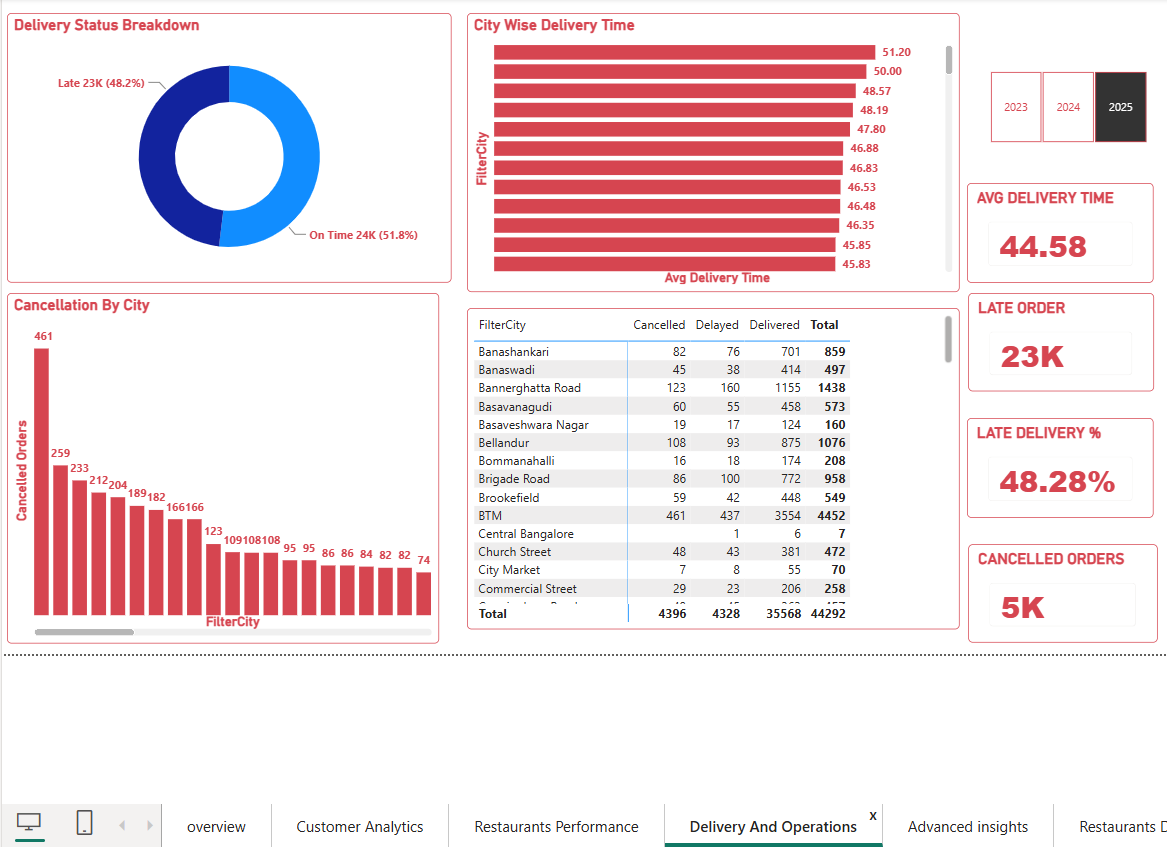

The dashboard page shown, as its layout file describes it:
{"tool":"powerbi","page":{"name":"Delivery And Operations ","canvas":[1280,720],"ordinal":3},"visuals":[{"type":"cardVisual","title":"AVG DELIVERY TIME","fields":{"Data":["Orders.Avg Delivery Time"]},"box":[1059.5,203.7,205.1,109.7],"z":0},{"type":"cardVisual","title":"LATE ORDER","fields":{"Data":["Orders.Late Orders"]},"box":[1061,323.3,203.7,108.2],"z":1000},{"type":"cardVisual","title":"LATE DELIVERY %","fields":{"Data":["Orders.Late Delivery %"]},"box":[1059.5,461.4,205.1,109.7],"z":2000},{"type":"cardVisual","title":"CANCELLED ORDERS","fields":{"Data":["Orders.Cancelled Orders"]},"box":[1061,599.6,207.9,108.2],"z":3000},{"type":"barChart","title":"City Wise Delivery Time","fields":{"Category":["Customers.FilterCity"],"Y":["Orders.Avg Delivery Time"]},"box":[509.8,17.1,541.2,306.2],"z":4000},{"type":"donutChart","title":"Delivery Status Breakdown","fields":{"Category":["Orders.Delivery Status"],"Y":["Orders.Total Orders"]},"box":[5.6,16.7,488.1,295.7],"z":5000},{"type":"columnChart","title":"Cancellation By City","fields":{"Category":["Customers.FilterCity"],"Y":["Orders.Cancelled Orders"]},"box":[5.7,323.3,474.2,384.5],"z":6000},{"type":"pivotTable","title":"City Wise Delivery Time","fields":{"Rows":["Customers.FilterCity"],"Columns":["Orders.OrderStatus"],"Values":["Orders.Total Orders"]},"box":[509.8,340.4,541.2,353.2],"z":7000},{"type":"slicer","fields":{"Values":["DateTable.Date.Variation.Date Hierarchy.Year"]},"box":[1059.5,74.1,220.7,91.1],"z":8000}]}

Visuals, with their boxes on the page's 1280x720 design canvas (x1, y1, x2, y2). These are canvas units, not pixel positions in the 1167x847 screenshot, which may show the page scaled, cropped or inside an application window:
"AVG DELIVERY TIME" cardVisual: pyautogui.locateOnScreen(1060, 204, 1265, 313)
"LATE ORDER" cardVisual: pyautogui.locateOnScreen(1061, 323, 1265, 432)
"LATE DELIVERY %" cardVisual: pyautogui.locateOnScreen(1060, 461, 1265, 571)
"CANCELLED ORDERS" cardVisual: pyautogui.locateOnScreen(1061, 600, 1269, 708)
"City Wise Delivery Time" barChart: pyautogui.locateOnScreen(510, 17, 1051, 323)
"Delivery Status Breakdown" donutChart: pyautogui.locateOnScreen(6, 17, 494, 312)
"Cancellation By City" columnChart: pyautogui.locateOnScreen(6, 323, 480, 708)
"City Wise Delivery Time" pivotTable: pyautogui.locateOnScreen(510, 340, 1051, 694)
slicer - DateTable.Date.Variation.Date Hierarchy.Year: pyautogui.locateOnScreen(1060, 74, 1280, 165)
